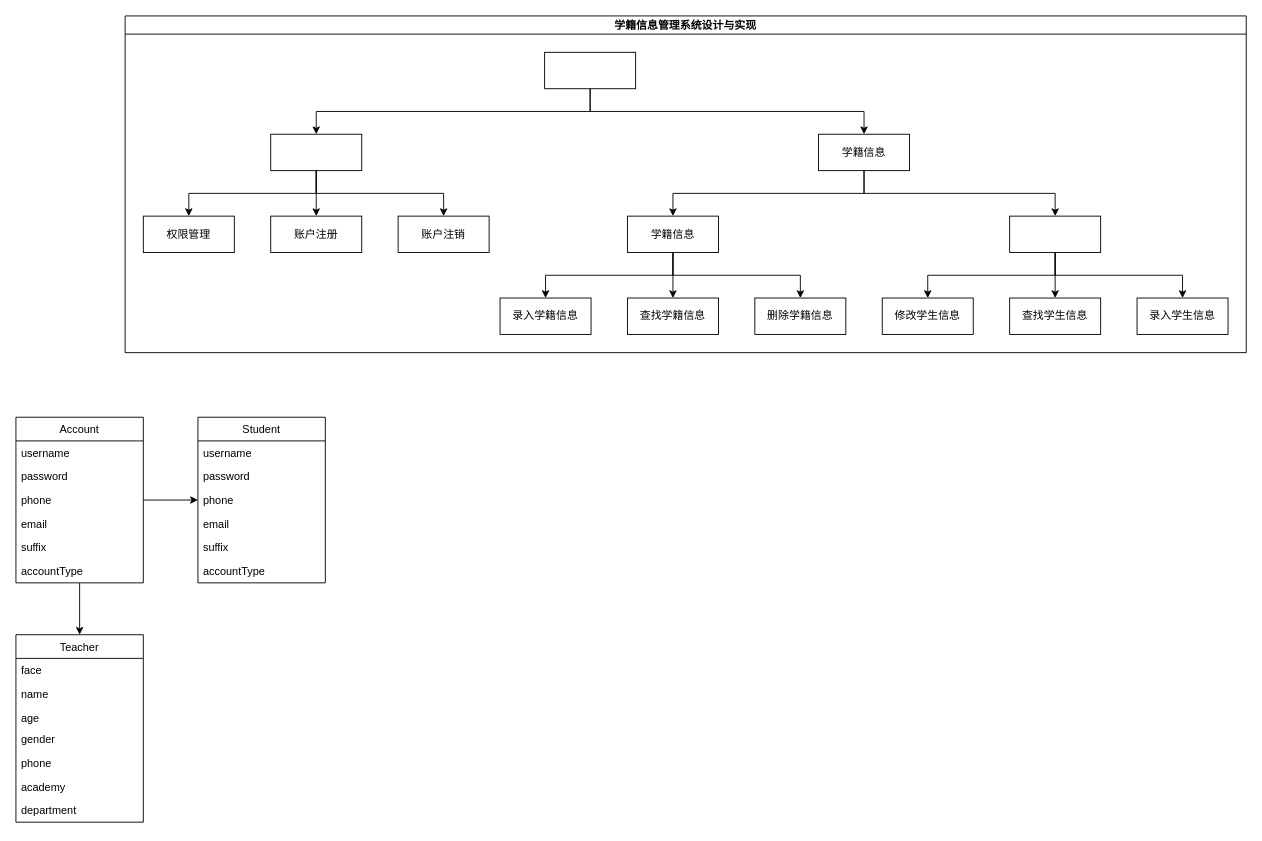
Image size: 1262x841. Some labels were removed from this diagram. Each missing label, with the centre of its shape:
学生信息: pixel 1055 234
学籍信息管理系统: pixel 590 70
账户: pixel 316 152
